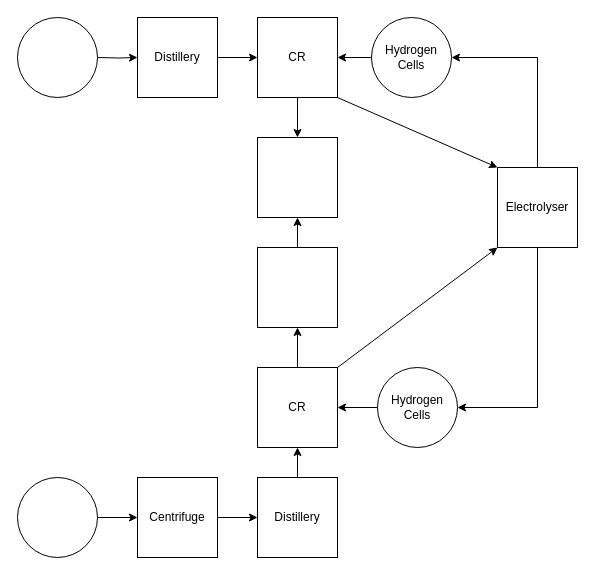
The diagram is 595 pixels wide and 575 high, and some of its shapes have lost their labels. The shapes that lost their labels are listed below. From the top down, each one's centre as x and y in pixels, then its label:
At pixel 57 57: "Raw Oil".
At pixel 297 177: "Mixer".
At pixel 297 287: "Fluid Tank".
At pixel 57 517: "Oilsands".
